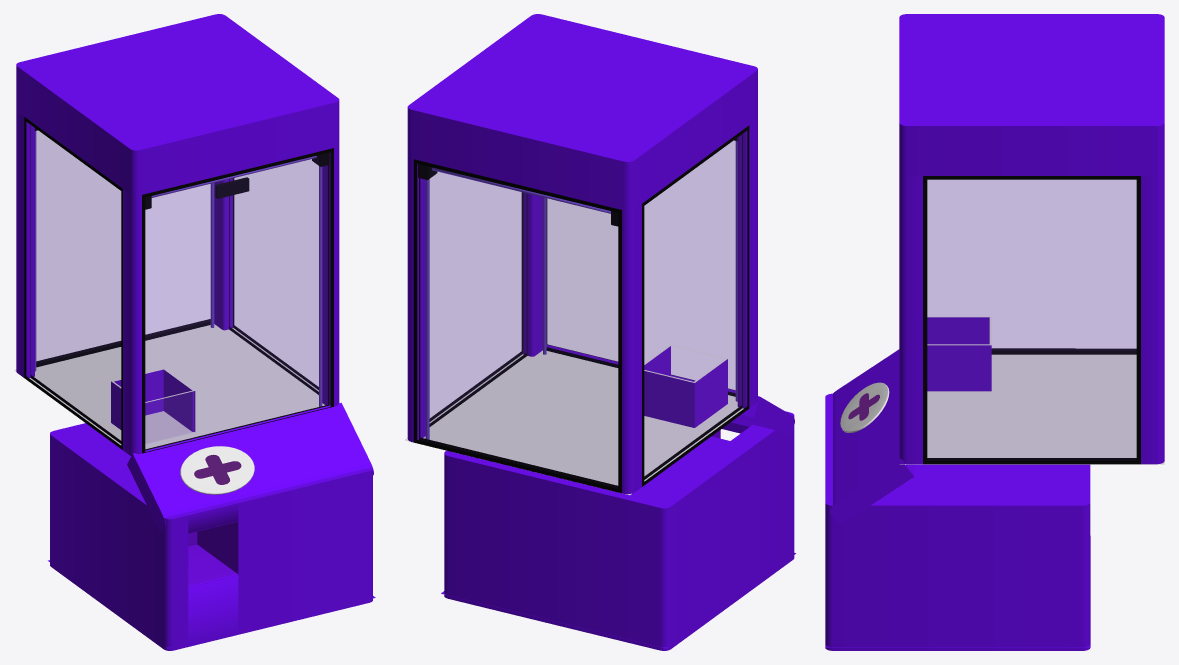
File: claw-body.glb
The picture shows the model from 3 angles, left to right: view 1: azimuth 30°, elevation 25°; view 2: azimuth 150°, elevation 25°; view 3: azimuth 270°, elevation 25°; orthographic projection. The views are drawn at different scales.
Visible parts, largest first — view 1: SM_Mirror, Plane.001, SM_Body_Top, Plane, SM_Body_InnerGlass, SM_VerticalBar, SM_HorizontalBar_Forward, SM_CountdownTimer; view 2: SM_Mirror, SM_Body_Top, Plane.001, Plane, SM_Body_InnerGlass, SM_VerticalBar, SM_HorizontalBar_Forward; view 3: SM_Mirror, SM_Body_Top, Plane.001, Plane, SM_Body_InnerGlass.
Boxes of the visible parts, bbox=[...] form: SM_Mirror: bbox=[24, 117, 333, 453]; Plane.001: bbox=[48, 402, 375, 650]; SM_Body_Top: bbox=[16, 14, 339, 455]; Plane: bbox=[14, 324, 324, 449]; SM_Body_InnerGlass: bbox=[111, 368, 195, 442]; SM_VerticalBar: bbox=[35, 131, 322, 406]; SM_HorizontalBar_Forward: bbox=[35, 128, 329, 209]; SM_CountdownTimer: bbox=[215, 177, 249, 198]; SM_Mirror: bbox=[413, 125, 749, 493]; SM_Body_Top: bbox=[407, 14, 757, 494]; Plane.001: bbox=[441, 344, 795, 650]; Plane: bbox=[405, 350, 743, 495]; SM_Body_InnerGlass: bbox=[644, 344, 727, 427]; SM_VerticalBar: bbox=[425, 141, 737, 439]; SM_HorizontalBar_Forward: bbox=[418, 138, 737, 226]; SM_Mirror: bbox=[923, 176, 1140, 464]; SM_Body_Top: bbox=[899, 14, 1164, 464]; Plane.001: bbox=[825, 349, 1090, 650]; Plane: bbox=[900, 354, 1164, 464]; SM_Body_InnerGlass: bbox=[927, 316, 991, 391].
Bounding box in the file's own units: 10.03 × 21.83 × 12.8.
